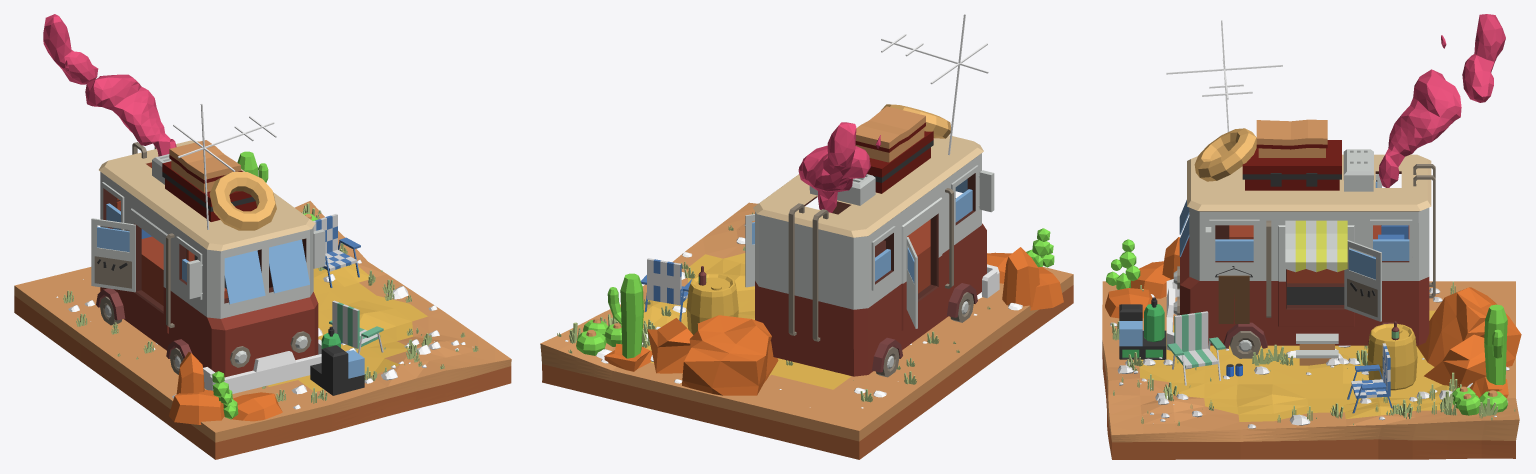
3 renders of one model, left to right at view 1: azimuth 30°, elevation 25°; view 2: azimuth 150°, elevation 25°; view 3: azimuth 270°, elevation 25°, orthographic. The views are drawn at different scales.
Parts seen in each view (by area): view 1: Cube.001, Cube.037, Cube, Mball.007, Cube.008, Torus, Cube.003, Cube.013, Cube.007, Cube.006, Cube.012, Cube.010 (+6 smaller); view 2: Cube.001, Cube.037, Cube, Cube.008, Mball.007, Cylinder.001, Cube.007, Cube.011, Cylinder, Cube.004, Cube.006, Cube.005 (+4 smaller); view 3: Cube.001, Cube.037, Cube, Cube.008, Mball.007, Cube.002, Cube.006, Cube.012, Cylinder.001, Cube.007, Cube.013, Cylinder (+9 smaller).
Part boxes in pixels (<box>): Cube.001: <box>91,140,325,377</box>; Cube.037: <box>14,201,511,432</box>; Cube: <box>14,286,511,459</box>; Mball.007: <box>43,14,176,156</box>; Cube.008: <box>169,352,282,424</box>; Torus: <box>209,172,276,230</box>; Cube.003: <box>203,339,321,393</box>; Cube.013: <box>310,326,364,395</box>; Cube.007: <box>169,140,240,192</box>; Cube.006: <box>162,161,256,221</box>; Cube.012: <box>116,162,228,305</box>; Cube.010: <box>329,300,383,353</box>; Cube.001: <box>745,135,994,377</box>; Cube.037: <box>540,202,1073,430</box>; Cube: <box>540,274,1073,459</box>; Cube.008: <box>604,247,1063,395</box>; Mball.007: <box>798,122,880,212</box>; Cylinder.001: <box>576,273,643,358</box>; Cube.007: <box>855,106,925,162</box>; Cube.011: <box>788,188,953,341</box>; Cylinder: <box>686,273,738,334</box>; Cube.004: <box>641,258,691,321</box>; Cube.006: <box>867,131,933,193</box>; Cube.005: <box>872,283,977,372</box>; Cube.001: <box>1173,149,1431,358</box>; Cube.037: <box>1102,281,1519,434</box>; Cube: <box>1102,340,1519,459</box>; Cube.008: <box>1105,237,1521,398</box>; Mball.007: <box>1379,14,1505,187</box>; Cube.002: <box>1285,220,1347,365</box>; Cube.006: <box>1242,140,1341,190</box>; Cube.012: <box>1229,225,1409,304</box>; Cylinder.001: <box>1452,304,1507,415</box>; Cube.007: <box>1256,119,1327,157</box>; Cube.013: <box>1119,297,1166,359</box>; Cylinder: <box>1367,323,1417,390</box>.
Size of the model in its own units: 5.02 by 4.67 by 5.6.
